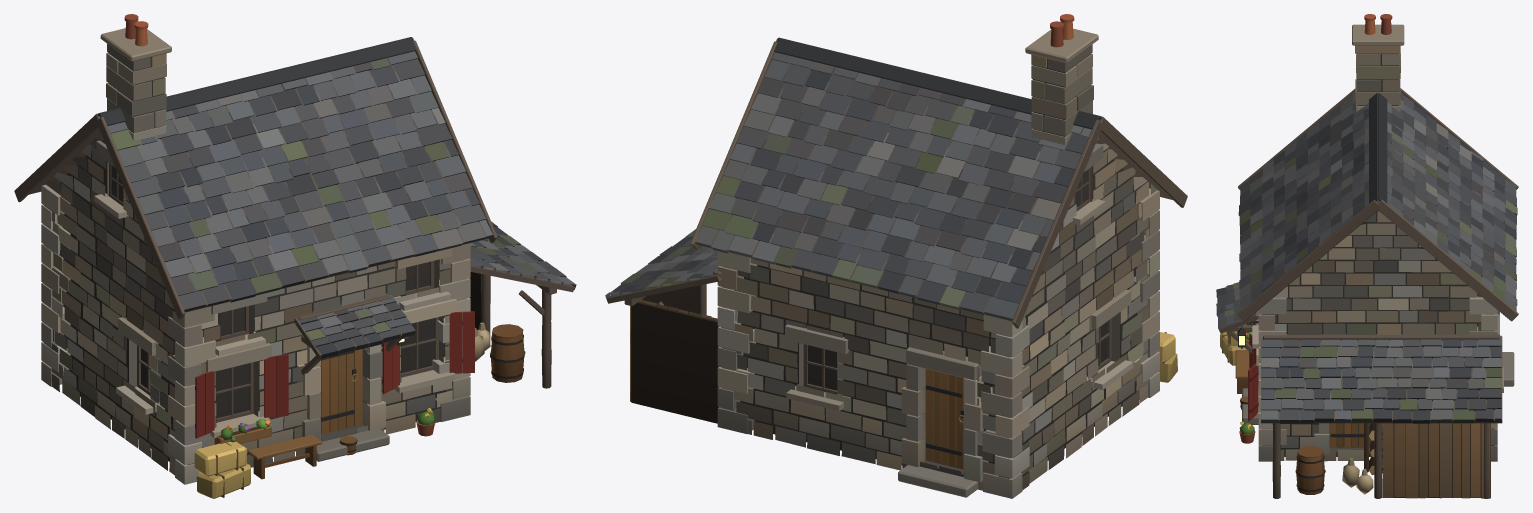
File: village_house_c.glb
3 views of the same model, side by side, from view 1: azimuth 30°, elevation 25°; view 2: azimuth 150°, elevation 25°; view 3: azimuth 270°, elevation 25° (orthographic). The views are drawn at different scales.
Parts seen in each view (by area): view 1: VillageHouseC; view 2: VillageHouseC; view 3: VillageHouseC.
Part boxes in pixels (x1,y1,x2,y2): VillageHouseC: (14,14,576,498); VillageHouseC: (605,14,1187,498); VillageHouseC: (1216,14,1518,498).
Bounding box in the file's own units: 8.73 × 8.34 × 6.7.
